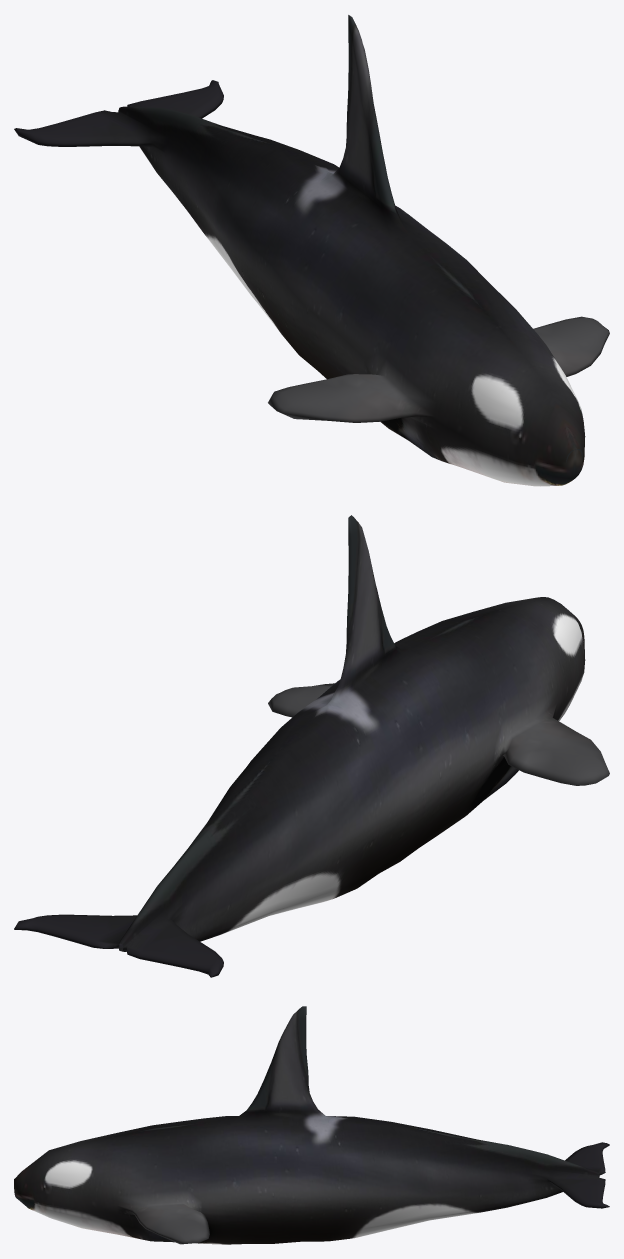
The model's file is orca.obj.
The picture shows the model from 3 angles, top to bottom: view 1: azimuth 30°, elevation 25°; view 2: azimuth 150°, elevation 25°; view 3: azimuth 270°, elevation 25°; orthographic projection. The views are drawn at different scales.
Parts seen in each view (by area): view 1: Orca_Cylinder.001; view 2: Orca_Cylinder.001; view 3: Orca_Cylinder.001.
Part boxes in pixels (x1=…): Orca_Cylinder.001: x1=14, y1=15, x2=609, y2=486; Orca_Cylinder.001: x1=14, y1=515, x2=609, y2=977; Orca_Cylinder.001: x1=14, y1=1006, x2=609, y2=1244.
Size of the model in its own units: 1.86 by 1.95 by 4.5.
1 material, 1 textured.
